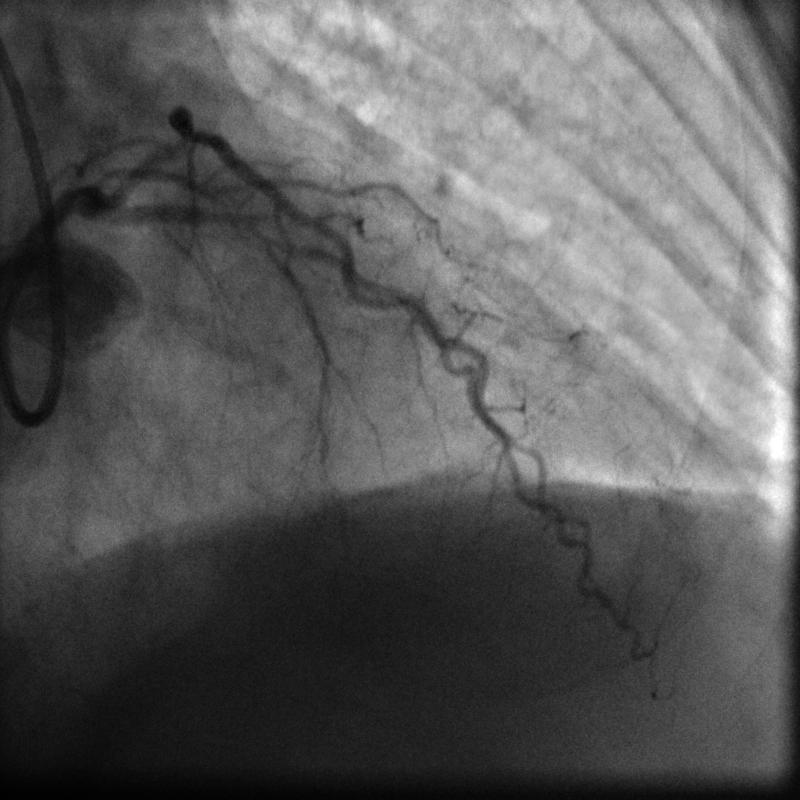Stenosis: (230, 198, 285, 243)
